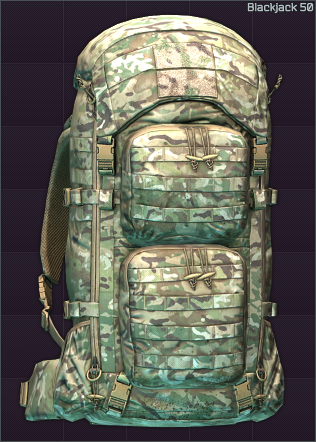Mystery Ranch Blackjack 50 backpack Multicam: (0, 0, 316, 442)
